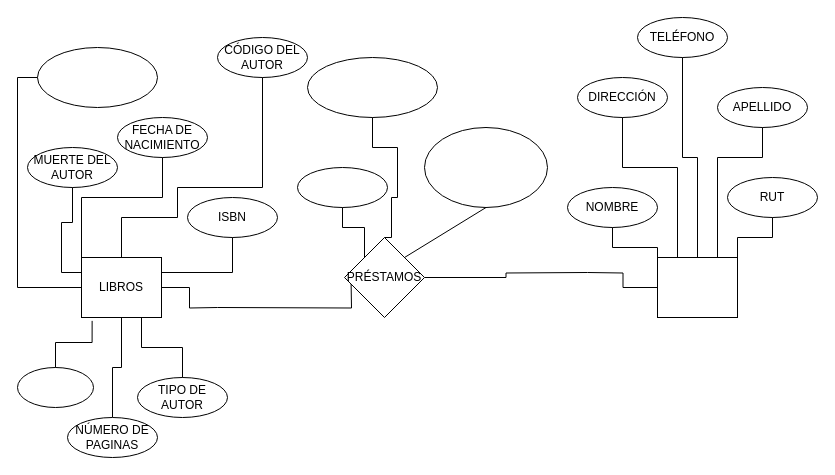
Some shapes in this 835 by 475 pixel diagram are drawn without their labels. The shapes that lost their labels are listed below. From the top down, each one's box as (x1, y1, x2, y2) in pixels, then its label:
(36, 46, 158, 108): NOMBRE Y APELLIDO DEL AUTOR
(306, 56, 438, 118): FECHA REAL DE LA DEVOLUCIÓN
(296, 166, 388, 208): FECHA INICIO
(424, 126, 548, 208): FECHA ESPERADA DE LA DEVOLUCIÓN
(656, 256, 738, 318): SOCIOS
(16, 366, 94, 408): TÍTULO
